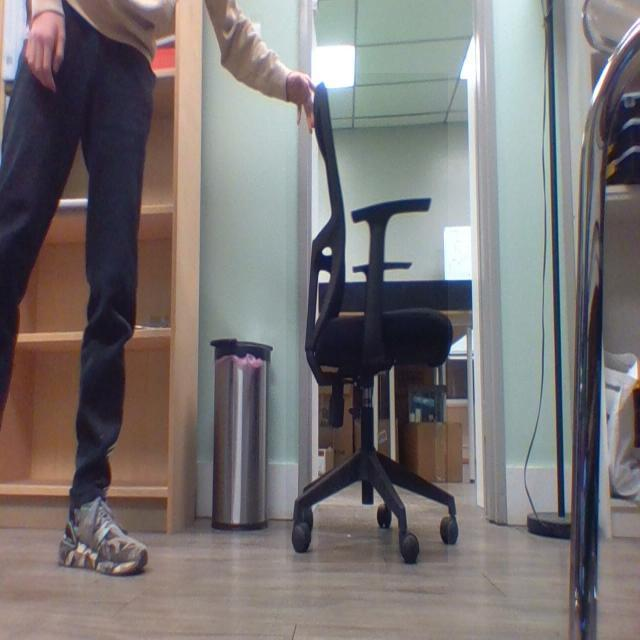chair: (272, 83, 491, 585)
